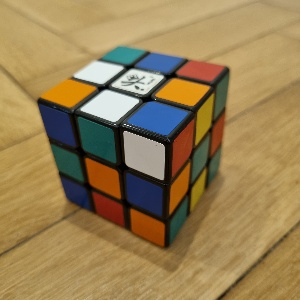cube: (37, 46, 230, 250)
